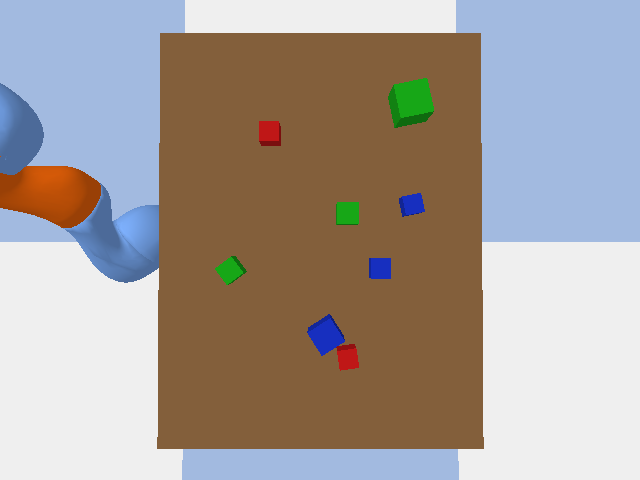blue_obj: (307, 314, 344, 355), (399, 193, 424, 216), (369, 258, 390, 278)
green_obj: (388, 78, 433, 127), (215, 256, 246, 284), (336, 202, 358, 224)
red_obj: (336, 344, 358, 370), (259, 121, 280, 145)
